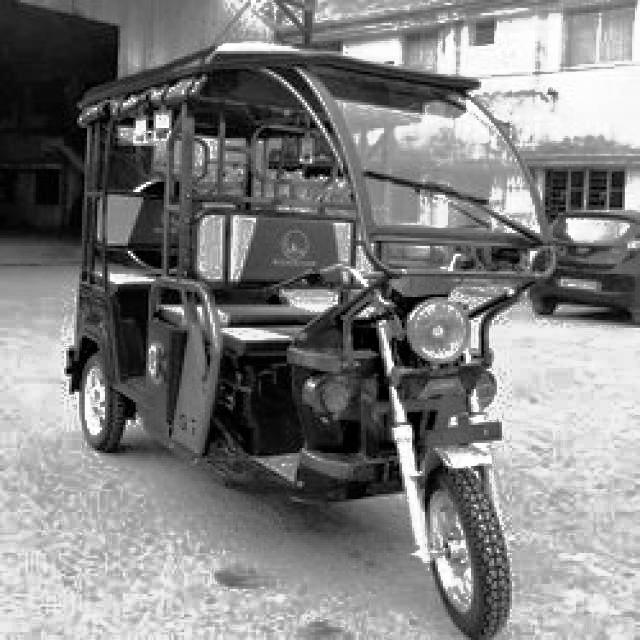Toto: (70, 39, 546, 639)
